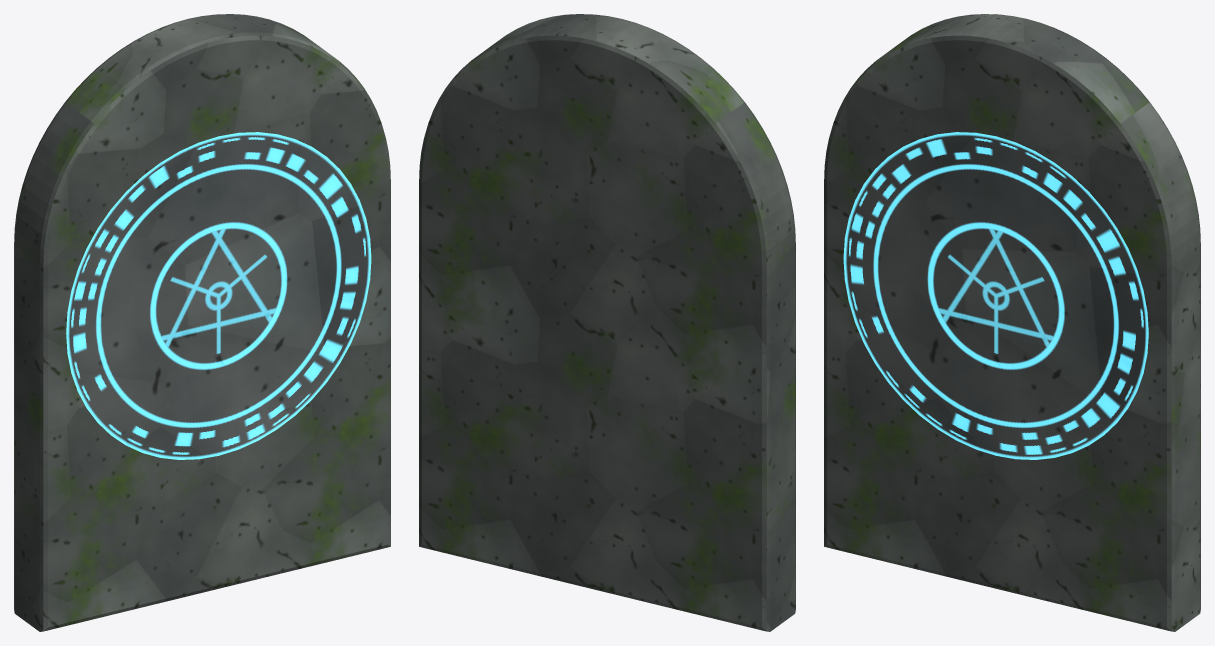
Rendered from gimmick_sealed_rune_door.glb.
3 views of the same model, side by side, from view 1: azimuth 30°, elevation 25°; view 2: azimuth 150°, elevation 25°; view 3: azimuth 330°, elevation 25° (orthographic).
Visible parts, largest first — view 1: gimmick_sealed_rune_door__stone_block, gimmick_sealed_rune_door__rune_stone; view 2: gimmick_sealed_rune_door__stone_block; view 3: gimmick_sealed_rune_door__stone_block, gimmick_sealed_rune_door__rune_stone.
Part boxes in pixels (x1=…): gimmick_sealed_rune_door__stone_block: x1=14, y1=14, x2=390, y2=631; gimmick_sealed_rune_door__rune_stone: x1=66, y1=132, x2=371, y2=459; gimmick_sealed_rune_door__stone_block: x1=419, y1=14, x2=795, y2=631; gimmick_sealed_rune_door__stone_block: x1=824, y1=14, x2=1200, y2=631; gimmick_sealed_rune_door__rune_stone: x1=843, y1=132, x2=1148, y2=459.
Size of the model in its own units: 2.02 by 3.04 by 0.318.
2 materials, 2 textured.
